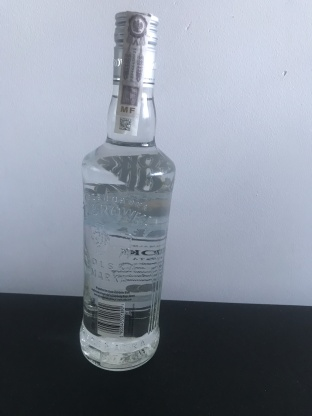nakretka: (109, 6, 161, 91)
